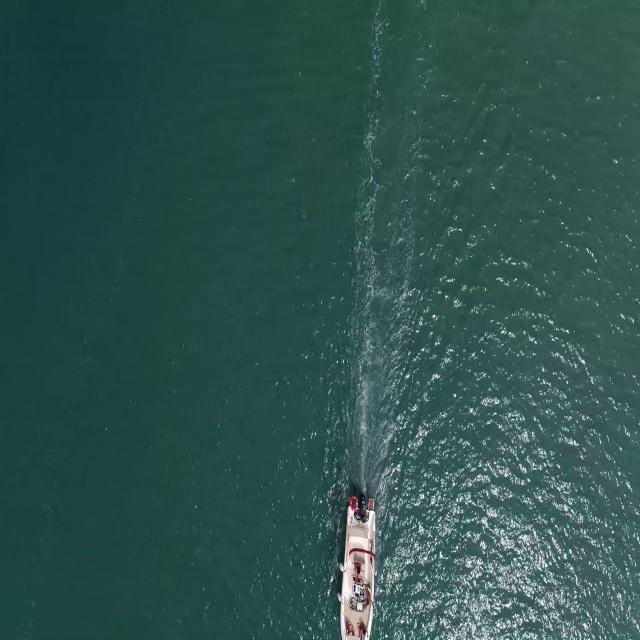boat: (339, 508, 380, 640)
life_buoy: (349, 497, 358, 510)
person: (363, 585, 374, 608), (352, 559, 362, 583), (343, 620, 356, 638), (358, 622, 367, 638)
